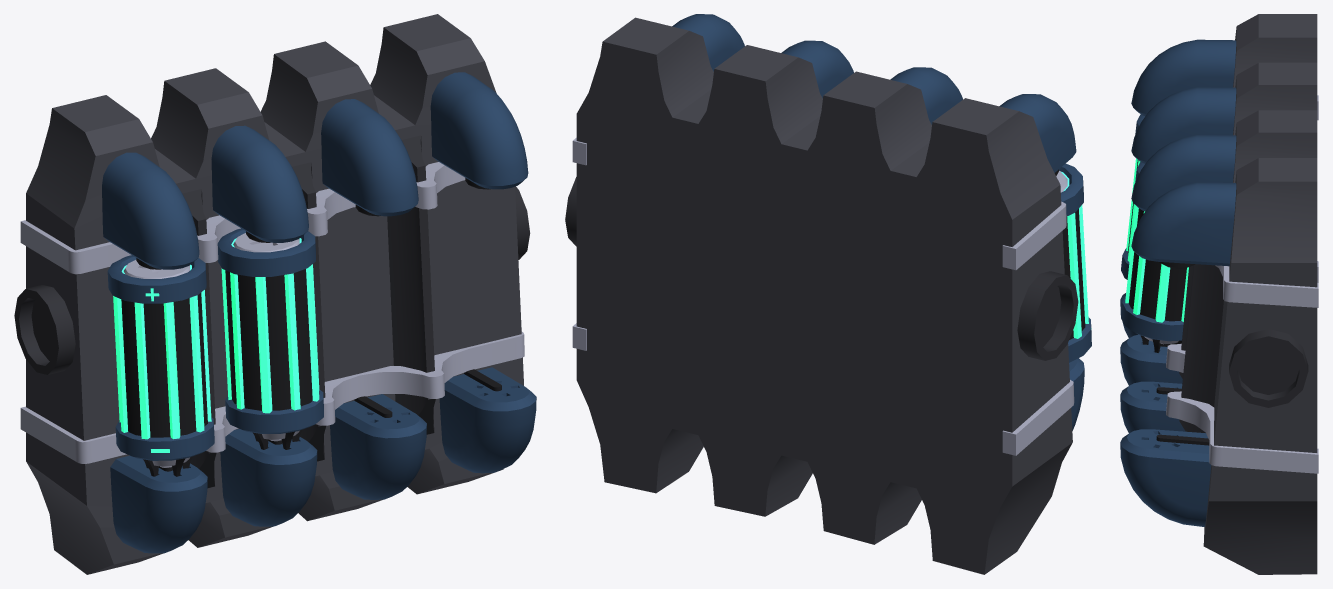
File: Misc_BatteryCharger_X4_D.fbx
The picture shows the model from 3 angles, left to right: view 1: azimuth 30°, elevation 25°; view 2: azimuth 150°, elevation 25°; view 3: azimuth 270°, elevation 25°; orthographic projection. The views are drawn at different scales.
Parts seen in each view (by area): view 1: Misc_BatteryCharger_X4_D.001; view 2: Misc_BatteryCharger_X4_D.001; view 3: Misc_BatteryCharger_X4_D.001.
Part boxes in pixels (x1,y1,x2,y2): Misc_BatteryCharger_X4_D.001: [14, 14, 536, 574]; Misc_BatteryCharger_X4_D.001: [565, 14, 1091, 574]; Misc_BatteryCharger_X4_D.001: [1120, 14, 1318, 574].
Size of the model in its own units: 0.344 by 0.3091 by 0.141.
